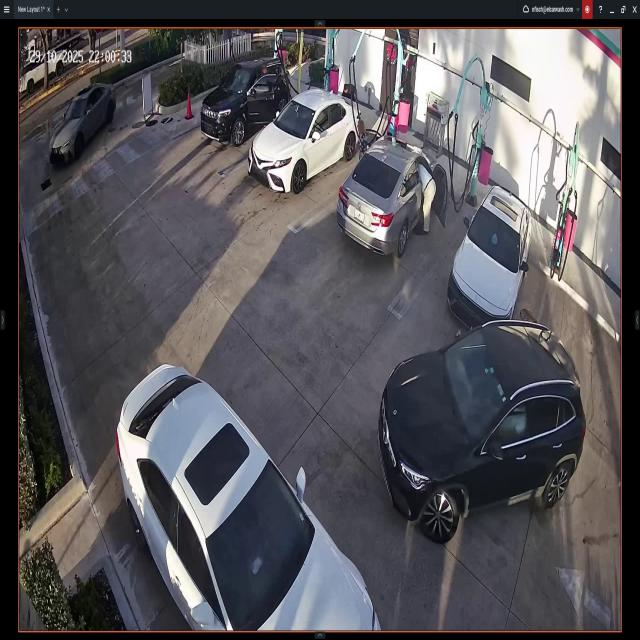Car: (119, 360, 381, 633), (384, 322, 587, 546), (338, 138, 448, 252), (250, 86, 361, 196), (449, 186, 530, 325), (202, 60, 290, 141), (51, 81, 118, 167)
